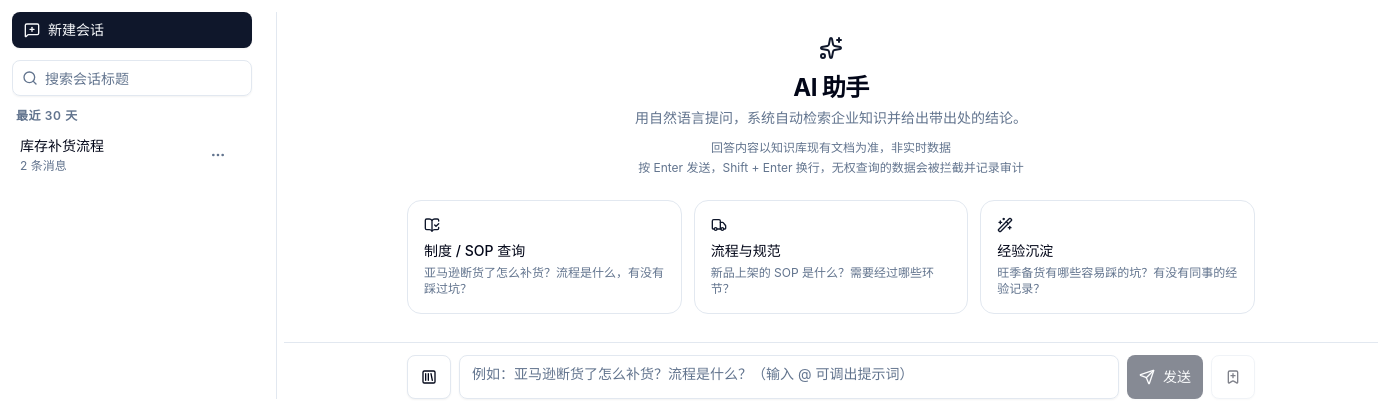
会话列表的「⋯」操作菜单与删除 › 「⋯」按钮常显，菜单内含置顶 / 重命名 / 删除
The image size is (1378, 416).
Click the button named "会话操作：库存补货流程" at (218, 155), box [200,137,236,173]
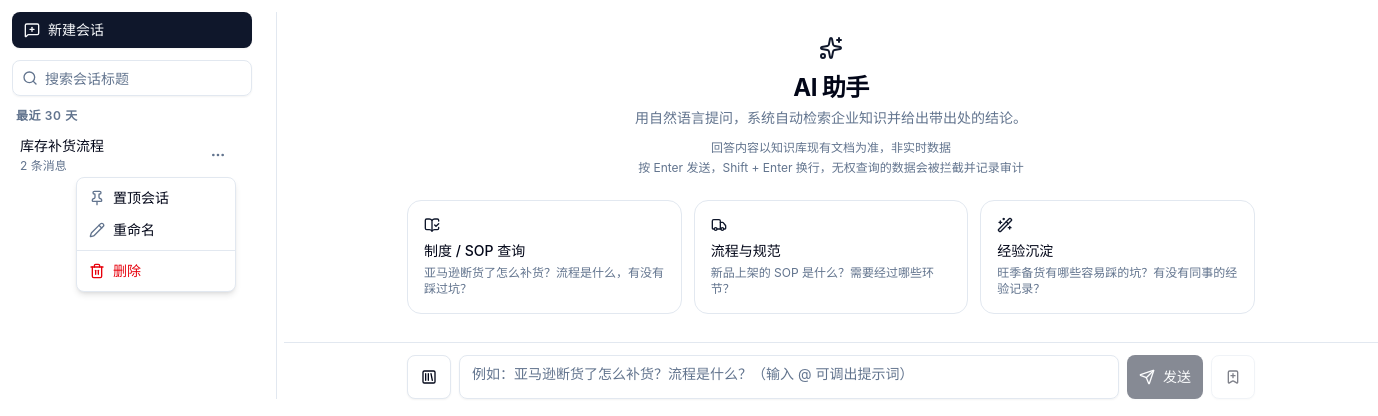
Now the menu item "置顶会话" is shown, box [89,189,169,206]
Now the menu item "重命名" is shown, box [89,221,155,238]
Now the menu item "删除" is shown, box [89,262,141,279]
